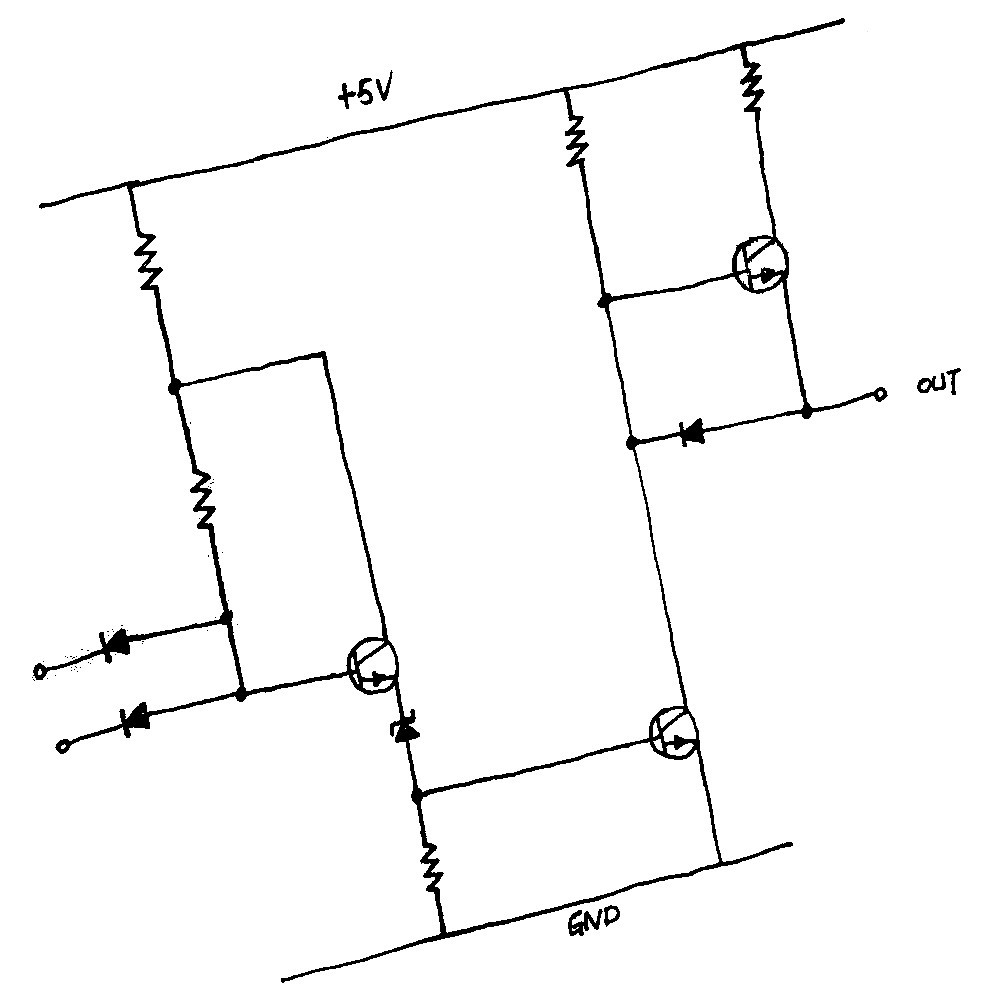diode: (94, 625, 138, 667), (117, 700, 153, 741), (676, 414, 709, 451)
diode.zener: (387, 707, 423, 745)
junction: (223, 679, 260, 710), (790, 394, 822, 428), (403, 780, 431, 812), (306, 339, 334, 369), (210, 604, 242, 630), (161, 371, 189, 400), (619, 427, 647, 455), (705, 848, 734, 875), (592, 285, 618, 312), (430, 921, 459, 945), (555, 75, 579, 101), (730, 32, 756, 52), (119, 172, 140, 196)
resistor: (187, 465, 220, 534), (133, 229, 165, 297), (563, 110, 595, 170), (417, 839, 446, 898), (739, 57, 767, 118)
terminal: (24, 183, 78, 218), (856, 378, 897, 410), (806, 12, 865, 33), (273, 962, 323, 986), (762, 829, 806, 856), (53, 736, 74, 756), (30, 661, 50, 682)
text: (329, 69, 398, 112), (559, 907, 633, 939), (908, 361, 967, 398)
transistor.bjt: (730, 233, 797, 297), (646, 702, 708, 765), (343, 635, 404, 696)
